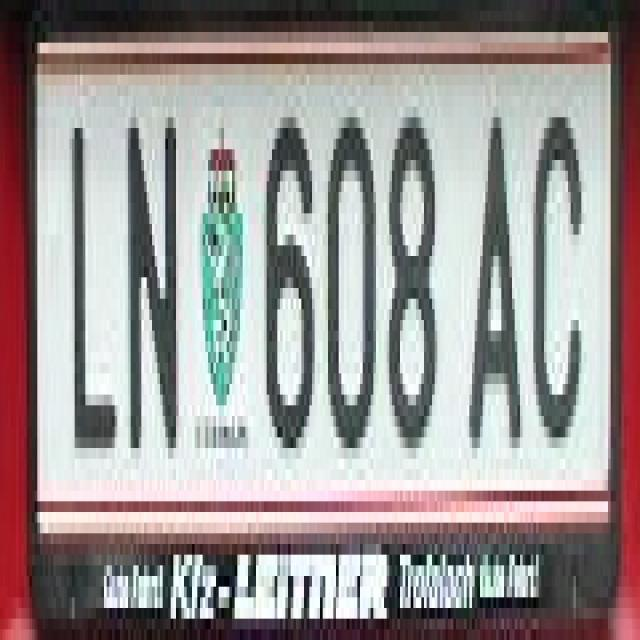0: (326, 96, 376, 437)
6: (261, 106, 312, 458)
8: (384, 128, 437, 448)
A: (464, 117, 526, 448)
C: (530, 117, 586, 448)
L: (69, 128, 120, 448)
N: (120, 117, 181, 448)
